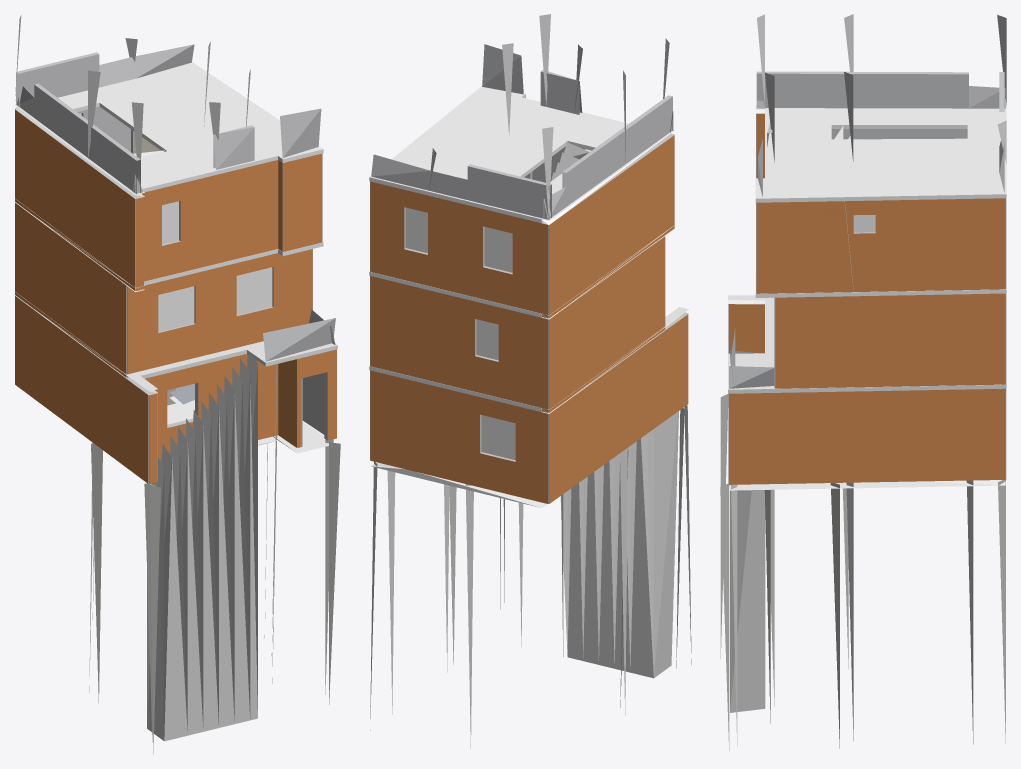
3 views of the same model, side by side, from view 1: azimuth 30°, elevation 25°; view 2: azimuth 150°, elevation 25°; view 3: azimuth 270°, elevation 25° (orthographic). The views are drawn at different scales.
Visible parts, largest first — view 1: F_13; view 2: F_13; view 3: F_13.
Boxes of the visible parts, x1=… form: F_13: x1=14, y1=15, x2=340, y2=753; F_13: x1=369, y1=14, x2=691, y2=748; F_13: x1=720, y1=14, x2=1006, y2=750.
Size of the model in its own units: 6.06 by 19.48 by 7.77.
